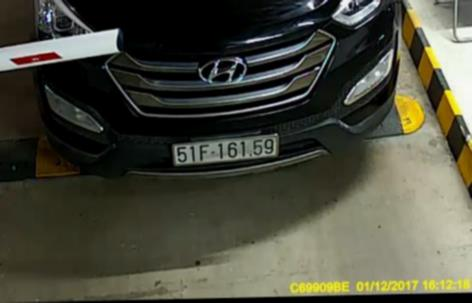License_Plate: (169, 133, 280, 168)
